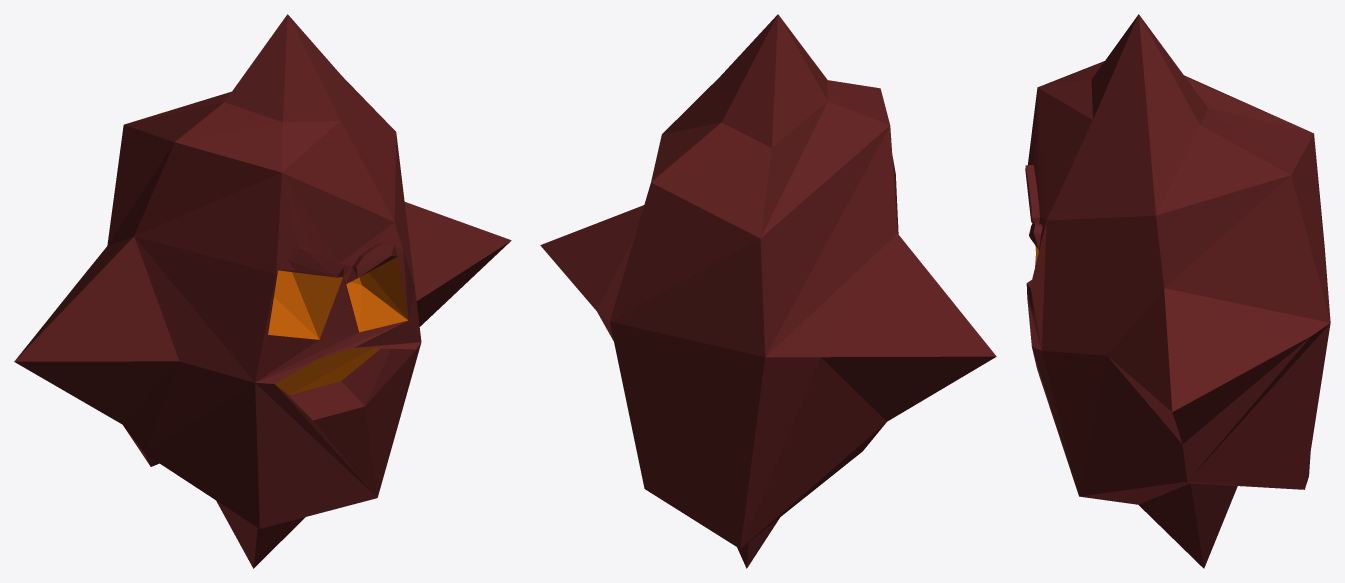
The model's file is boop.fbx.
3 renders of one model, left to right at view 1: azimuth 30°, elevation 25°; view 2: azimuth 150°, elevation 25°; view 3: azimuth 270°, elevation 25°, orthographic. The views are drawn at different scales.
Parts seen in each view (by area): view 1: Head; view 2: Head; view 3: Head.
Part boxes in pixels (x1,y1,x2,y2): Head: (14,14,511,568); Head: (540,14,996,568); Head: (1025,14,1330,568).
Bounding box in the file's own units: 1.86 × 2.07 × 1.03.
